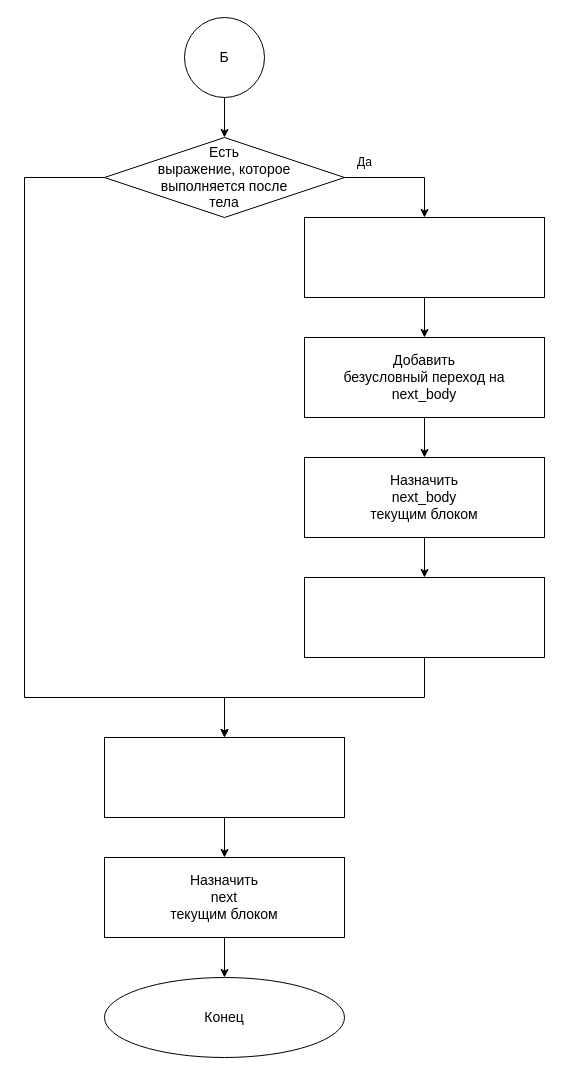
Image size: 562x1075. Some labels were removed from this diagram. Here are the shapes that lost their labels. From the top down, the centre of each, then its label:
At (x=424, y=257): "next_body = новый блок с родителем текущего блока".
At (x=424, y=617): "Посетить вершину выражения".
At (x=224, y=777): "Добавить безусловный переход на cond".
